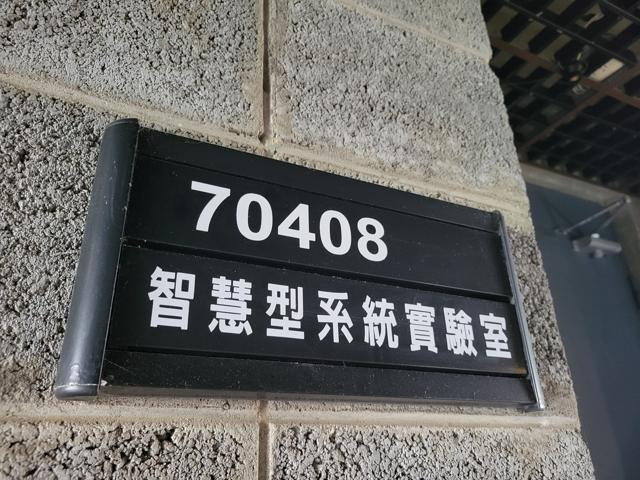doorplate: (43, 110, 551, 416)
